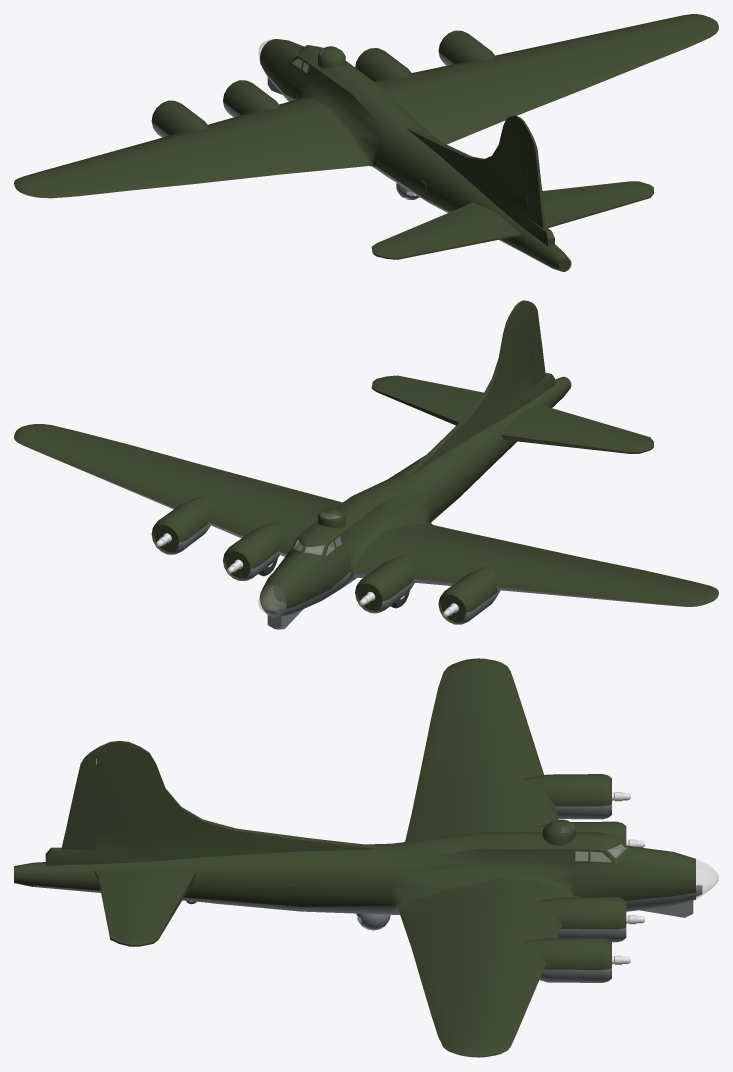
The model's file is B17_joined.glb.
3 views of the same model, one above another, from view 1: azimuth 30°, elevation 25°; view 2: azimuth 150°, elevation 25°; view 3: azimuth 270°, elevation 25° (orthographic). The views are drawn at different scales.
Parts seen in each view (by area): view 1: Fuselage_95.6666mps_24500kg_131.92m2; view 2: Fuselage_95.6666mps_24500kg_131.92m2; view 3: Fuselage_95.6666mps_24500kg_131.92m2.
Part boxes in pixels (x1=…): Fuselage_95.6666mps_24500kg_131.92m2: x1=14, y1=14, x2=718, y2=271; Fuselage_95.6666mps_24500kg_131.92m2: x1=14, y1=300, x2=718, y2=629; Fuselage_95.6666mps_24500kg_131.92m2: x1=14, y1=658, x2=718, y2=1057.
Size of the model in its own units: 29.91 by 6.58 by 22.42.
